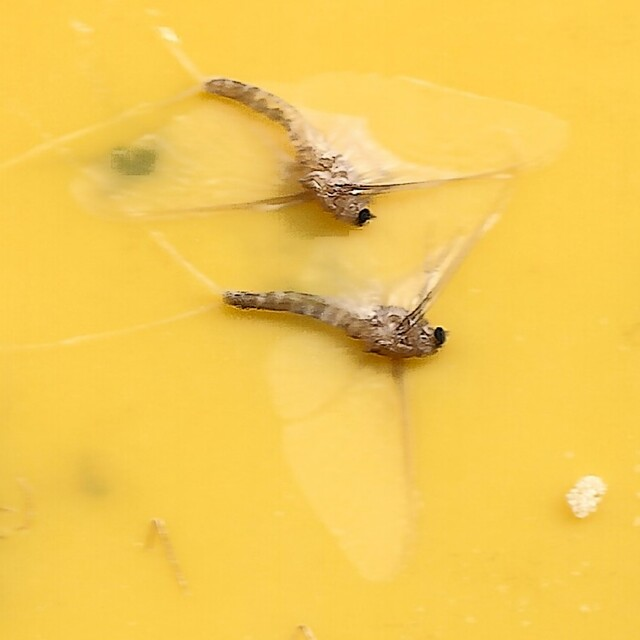Ephemeroptera: (215, 169, 520, 567), (79, 73, 561, 229)
